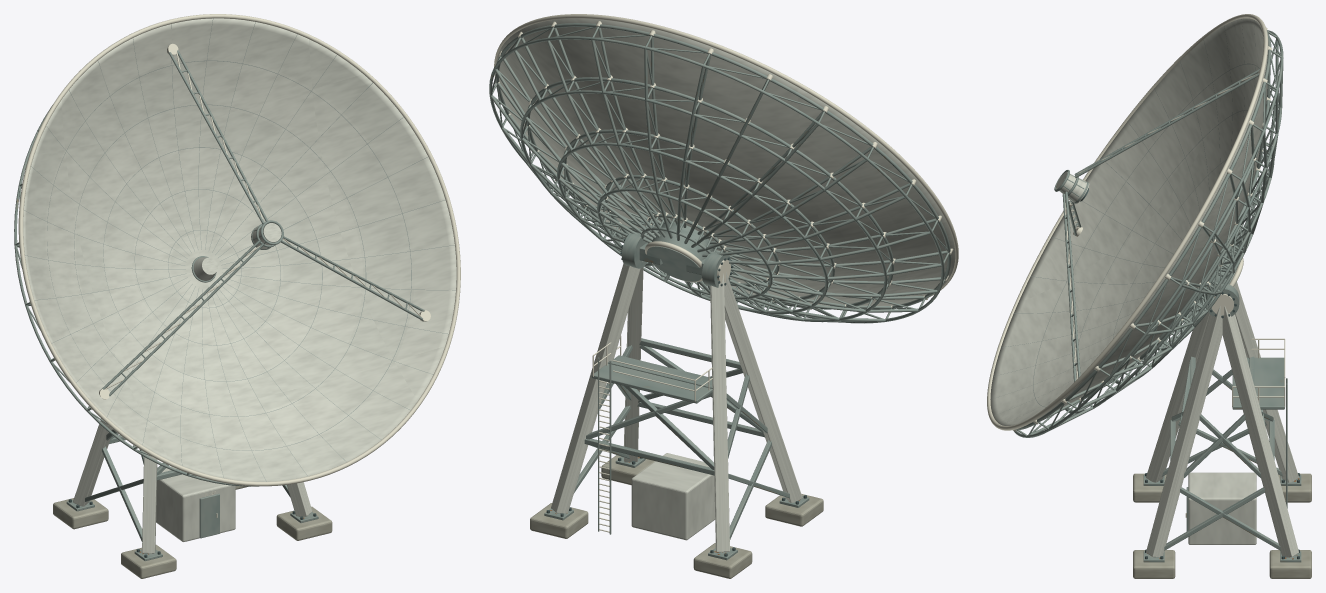
File: Radio_Telescope_24m.glb
The picture shows the model from 3 angles, left to right: view 1: azimuth 30°, elevation 25°; view 2: azimuth 150°, elevation 25°; view 3: azimuth 270°, elevation 25°; orthographic projection. The views are drawn at different scales.
Visible parts, largest first — view 1: Reflector_Continuous, Panel_Joint_Markings, Reflector_Rim, Service_Pod, Feed_Supports, Foundations, Tower_Legs, Rear_Hoops, Tower_Bracing, Receiver, Base_Plates, Center_Instrument; view 2: Reflector_Continuous, Radial_Trusses, Rear_Hoops, Tower_Legs, Tower_Bracing, Service_Pod, Foundations, Cross_Braces, Reflector_Rim, Service_Platform, Rear_Hub, Elevation_Bearings (+4 smaller); view 3: Reflector_Continuous, Tower_Legs, Rear_Hoops, Radial_Trusses, Reflector_Rim, Service_Pod, Tower_Bracing, Foundations, Feed_Supports, Cross_Braces, Panel_Joint_Markings, Service_Platform (+5 smaller).
Boxes of the visible parts, <box> form: Reflector_Continuous: <box>23,18,456,481</box>; Panel_Joint_Markings: <box>24,18,455,481</box>; Reflector_Rim: <box>18,14,460,486</box>; Service_Pod: <box>156,466,235,541</box>; Feed_Supports: <box>101,50,424,396</box>; Foundations: <box>53,486,332,578</box>; Tower_Legs: <box>73,418,312,553</box>; Rear_Hoops: <box>14,105,258,486</box>; Tower_Bracing: <box>85,429,290,541</box>; Receiver: <box>251,220,283,249</box>; Base_Plates: <box>66,499,318,560</box>; Center_Instrument: <box>191,256,217,282</box>; Reflector_Continuous: <box>496,18,955,305</box>; Radial_Trusses: <box>490,26,949,322</box>; Rear_Hoops: <box>489,23,951,323</box>; Tower_Legs: <box>551,261,802,552</box>; Tower_Bracing: <box>574,338,789,539</box>; Service_Pod: <box>631,453,715,540</box>; Foundations: <box>530,455,823,578</box>; Cross_Braces: <box>492,27,947,317</box>; Reflector_Rim: <box>494,14,958,296</box>; Service_Platform: <box>591,355,712,403</box>; Rear_Hub: <box>645,222,714,282</box>; Elevation_Bearings: <box>620,232,733,287</box>; Reflector_Continuous: <box>990,18,1267,425</box>; Tower_Legs: <box>1146,282,1298,557</box>; Rear_Hoops: <box>1013,30,1283,437</box>; Radial_Trusses: <box>1017,30,1283,436</box>; Reflector_Rim: <box>987,14,1268,430</box>; Service_Pod: <box>1185,472,1256,544</box>; Tower_Bracing: <box>1161,356,1283,550</box>; Foundations: <box>1133,473,1311,578</box>; Feed_Supports: <box>1062,69,1259,381</box>; Cross_Braces: <box>1028,34,1280,435</box>; Panel_Joint_Markings: <box>993,19,1262,410</box>; Service_Platform: <box>1232,357,1284,409</box>.
Bounding box in the file's own units: 24.23 × 26.97 × 16.16.
Materials: 11 (7 with a texture image).
